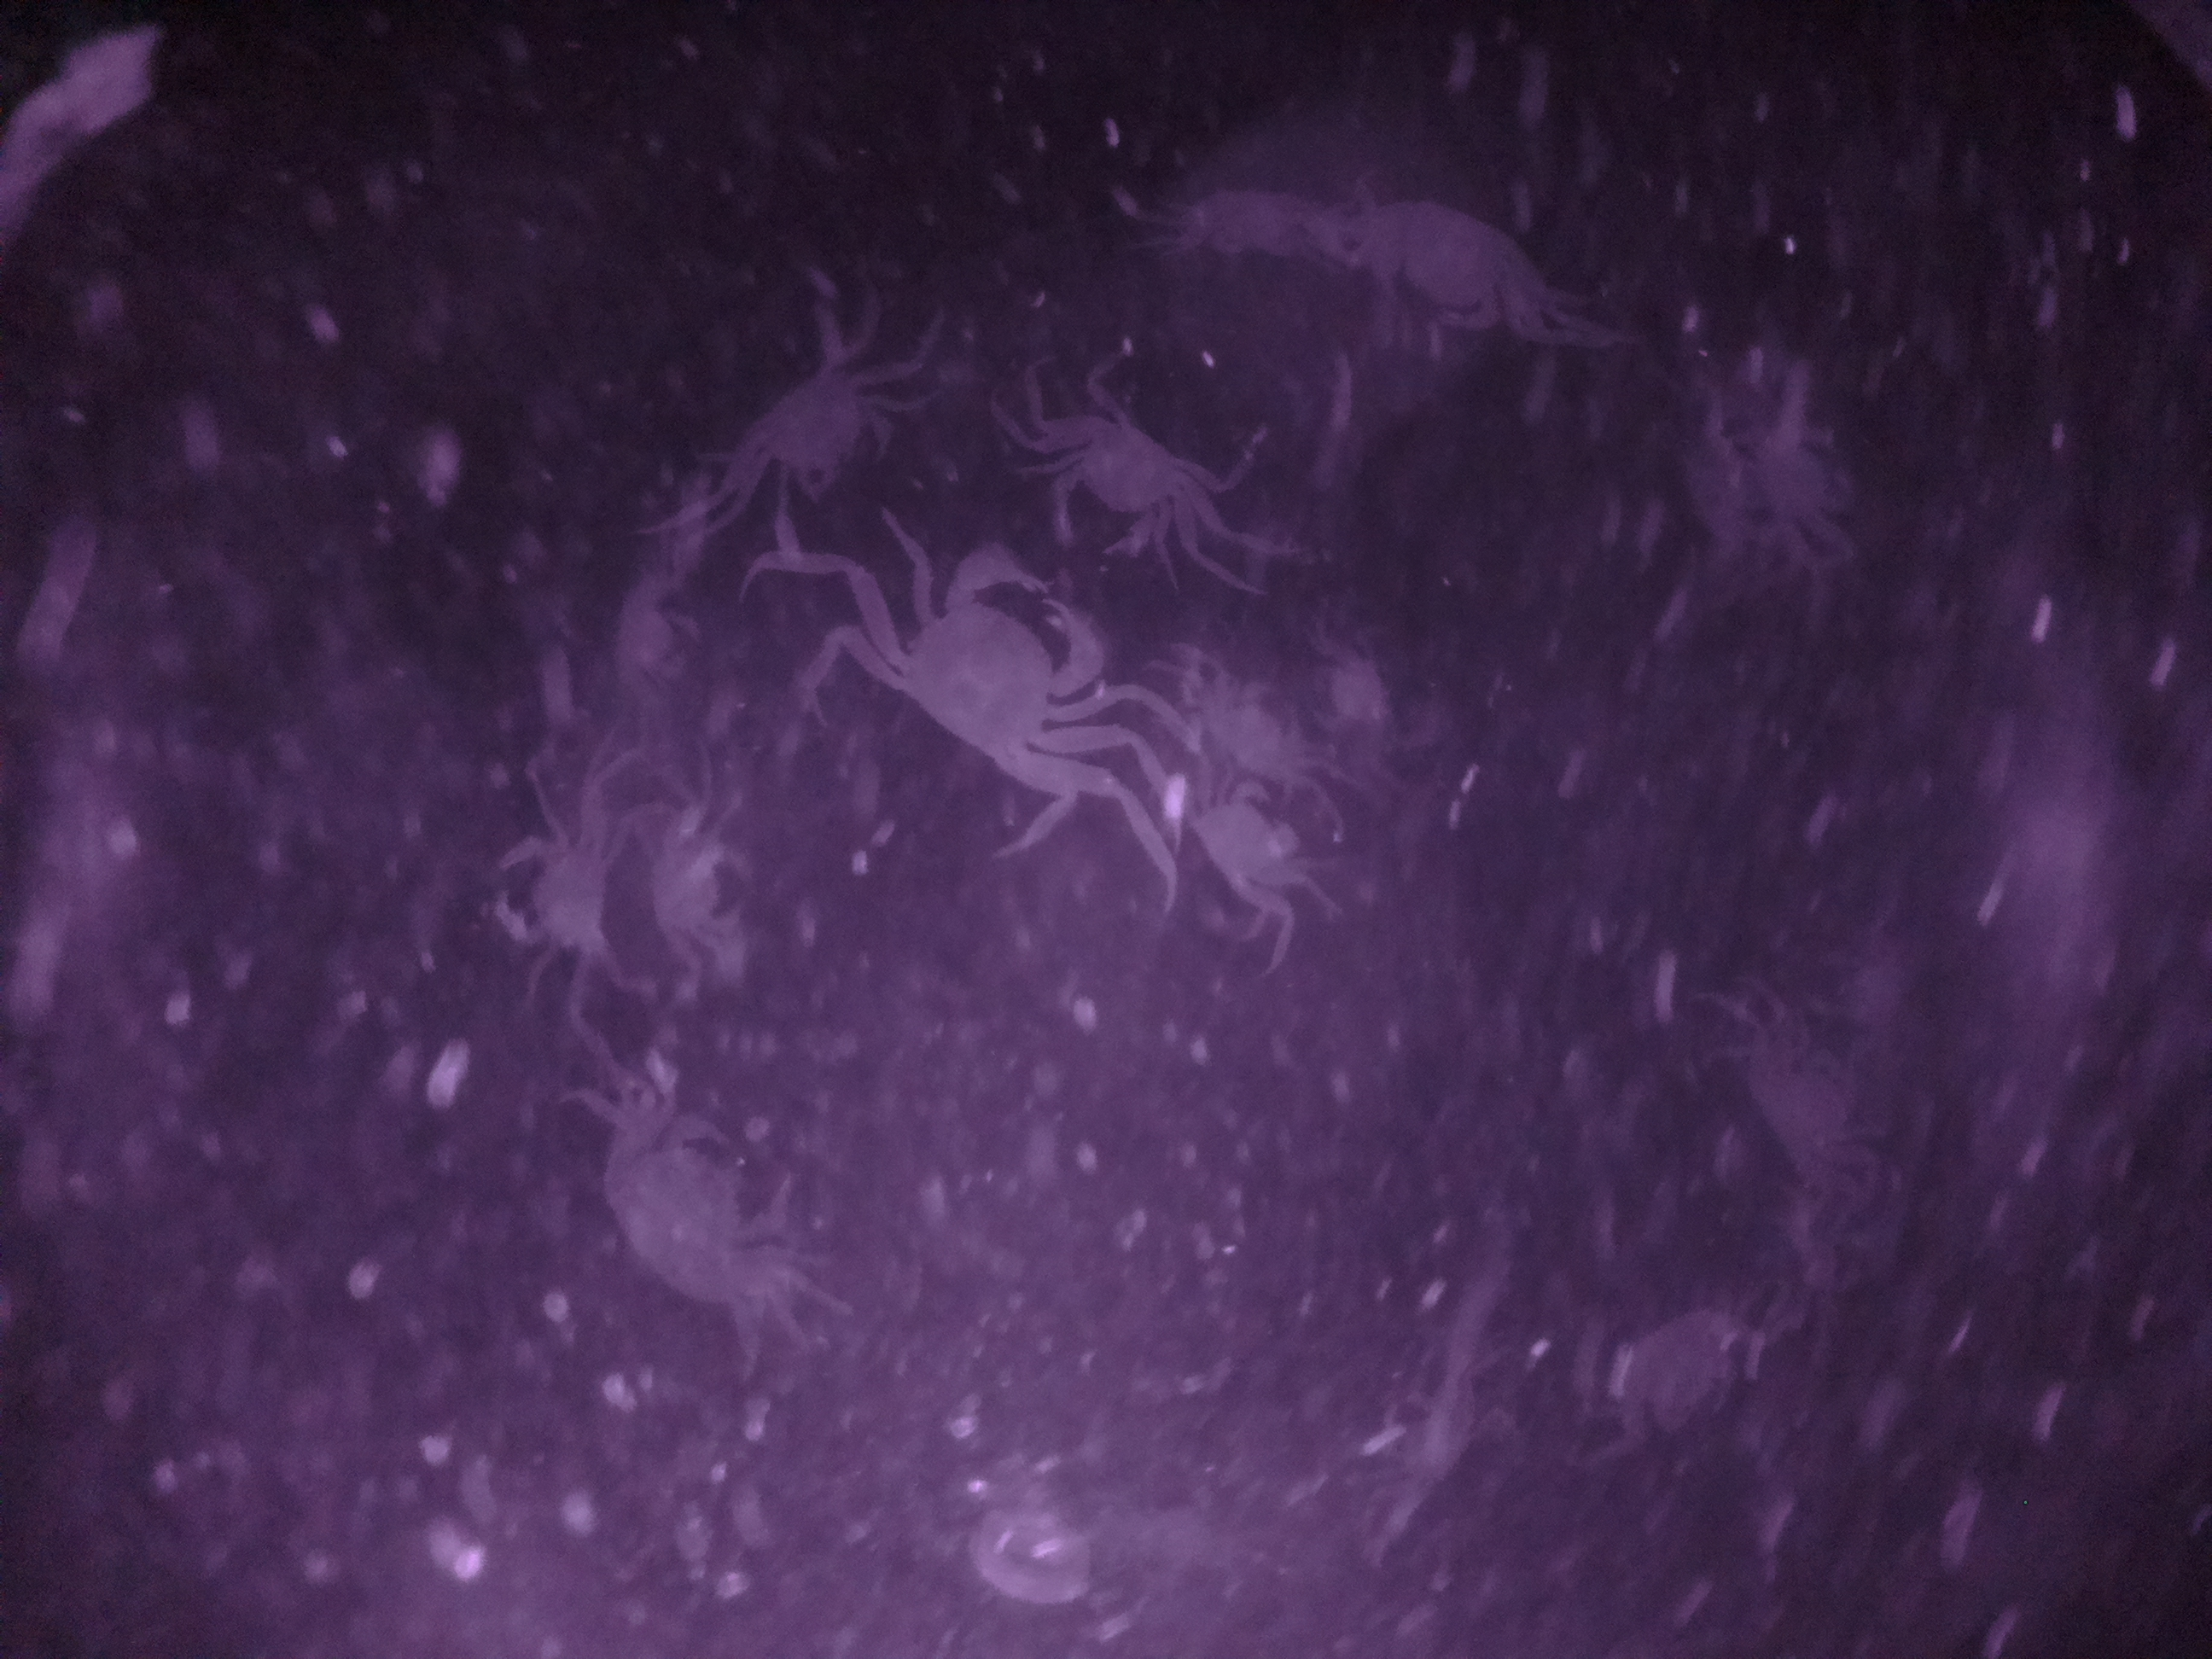Crab: (846, 526, 1143, 833), (1015, 361, 1221, 586), (718, 338, 920, 514), (1186, 762, 1329, 922)
